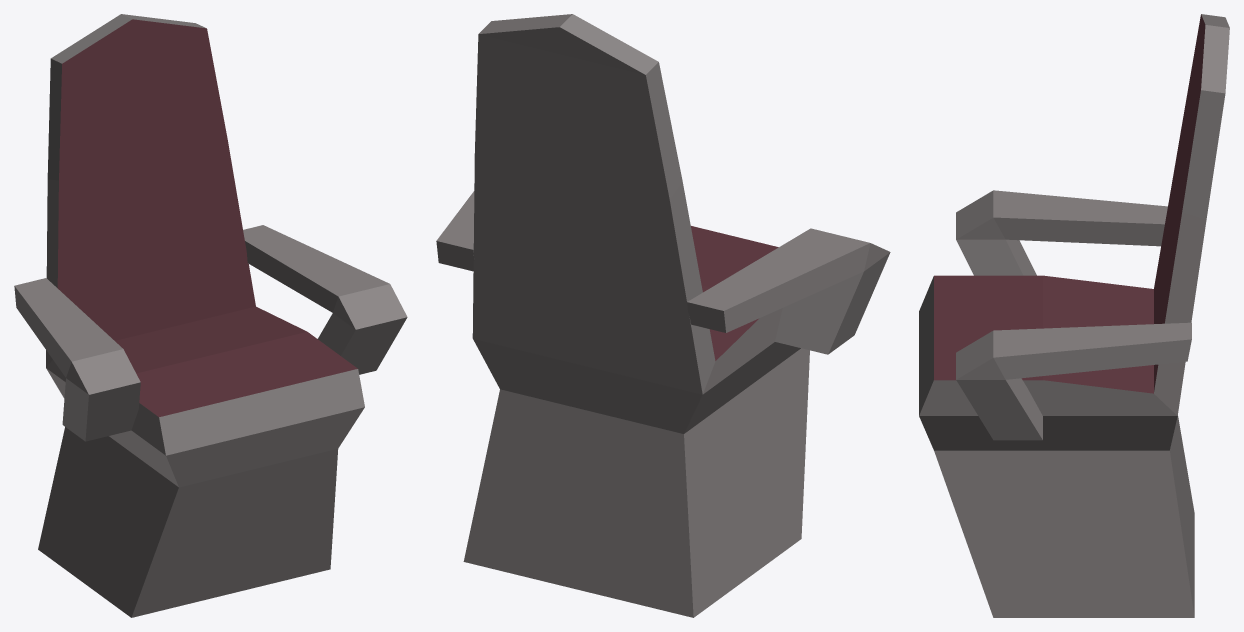
File: scifi-chair.fbx
The picture shows the model from 3 angles, left to right: view 1: azimuth 30°, elevation 25°; view 2: azimuth 150°, elevation 25°; view 3: azimuth 270°, elevation 25°; orthographic projection. The views are drawn at different scales.
Parts seen in each view (by area): view 1: scifi-chair; view 2: scifi-chair; view 3: scifi-chair.
Part boxes in pixels (box(x1,y1,x2,y2)): scifi-chair: box(14, 14, 407, 617); scifi-chair: box(436, 14, 890, 617); scifi-chair: box(919, 14, 1229, 617).
Bounding box in the file's own units: 0.7998 × 1.2 × 0.6278.
